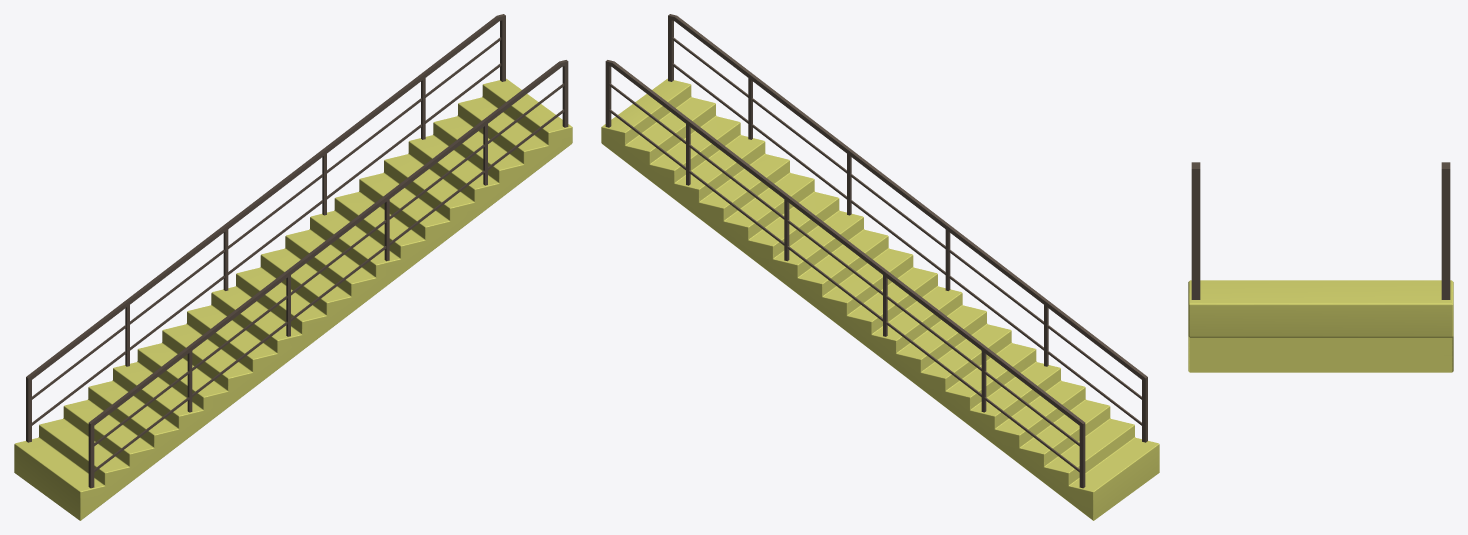
Rendered from DBK_Stairs_Concrete_Long.FBX.
3 renders of one model, left to right at view 1: azimuth 30°, elevation 25°; view 2: azimuth 150°, elevation 25°; view 3: azimuth 270°, elevation 25°, orthographic. The views are drawn at different scales.
Parts seen in each view (by area): view 1: DBK_Stairs_Concrete_Long, DBK_Stairs_Concrete_Long_Rail_R, DBK_Stairs_Concrete_Long_Rail_L; view 2: DBK_Stairs_Concrete_Long, DBK_Stairs_Concrete_Long_Rail_L, DBK_Stairs_Concrete_Long_Rail_R; view 3: DBK_Stairs_Concrete_Long, DBK_Stairs_Concrete_Long_Rail_L, DBK_Stairs_Concrete_Long_Rail_R.
Boxes of the visible parts, x1,y1,x2,y2 form: DBK_Stairs_Concrete_Long: (14, 78, 572, 520); DBK_Stairs_Concrete_Long_Rail_R: (88, 60, 568, 488); DBK_Stairs_Concrete_Long_Rail_L: (26, 14, 505, 442); DBK_Stairs_Concrete_Long: (601, 78, 1159, 520); DBK_Stairs_Concrete_Long_Rail_L: (605, 60, 1085, 488); DBK_Stairs_Concrete_Long_Rail_R: (668, 14, 1147, 442); DBK_Stairs_Concrete_Long: (1188, 280, 1453, 372); DBK_Stairs_Concrete_Long_Rail_L: (1441, 162, 1450, 299); DBK_Stairs_Concrete_Long_Rail_R: (1191, 162, 1200, 299).
Size of the model in its own units: 600 by 396 by 140.
